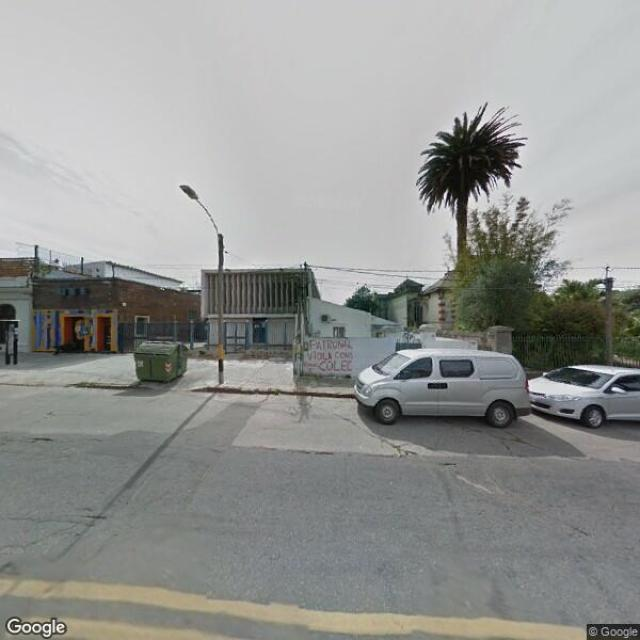garbage container: (126, 333, 202, 391)
